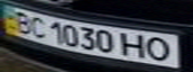0: (57, 21, 81, 48), (97, 27, 118, 54)
1: (42, 18, 66, 44)
3: (78, 25, 96, 52)
B: (6, 8, 36, 34)
C: (24, 15, 51, 38)
H: (118, 30, 151, 59)
O: (142, 35, 178, 63)
